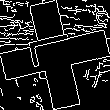L_E: (27, 34, 83, 76)
